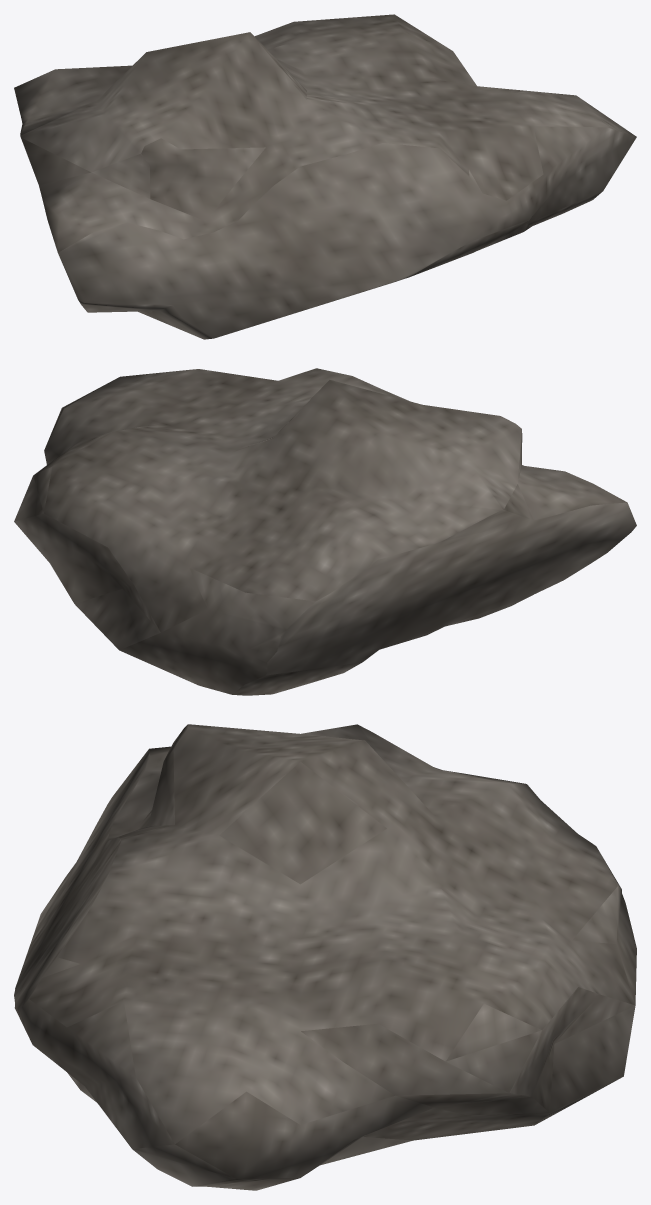
File: boulder_5.glb
The picture shows the model from 3 angles, top to bottom: view 1: azimuth 30°, elevation 25°; view 2: azimuth 150°, elevation 25°; view 3: azimuth 270°, elevation 25°; orthographic projection. The views are drawn at different scales.
Parts seen in each view (by area): view 1: boulder_5; view 2: boulder_5; view 3: boulder_5.
Part boxes in pixels (x1,y1,x2,y2): boulder_5: [14, 14, 636, 339]; boulder_5: [14, 368, 636, 695]; boulder_5: [14, 724, 636, 1190].
Size of the model in its own units: 4.71 by 2.03 by 3.52.
Materials: 1 (1 with a texture image).
